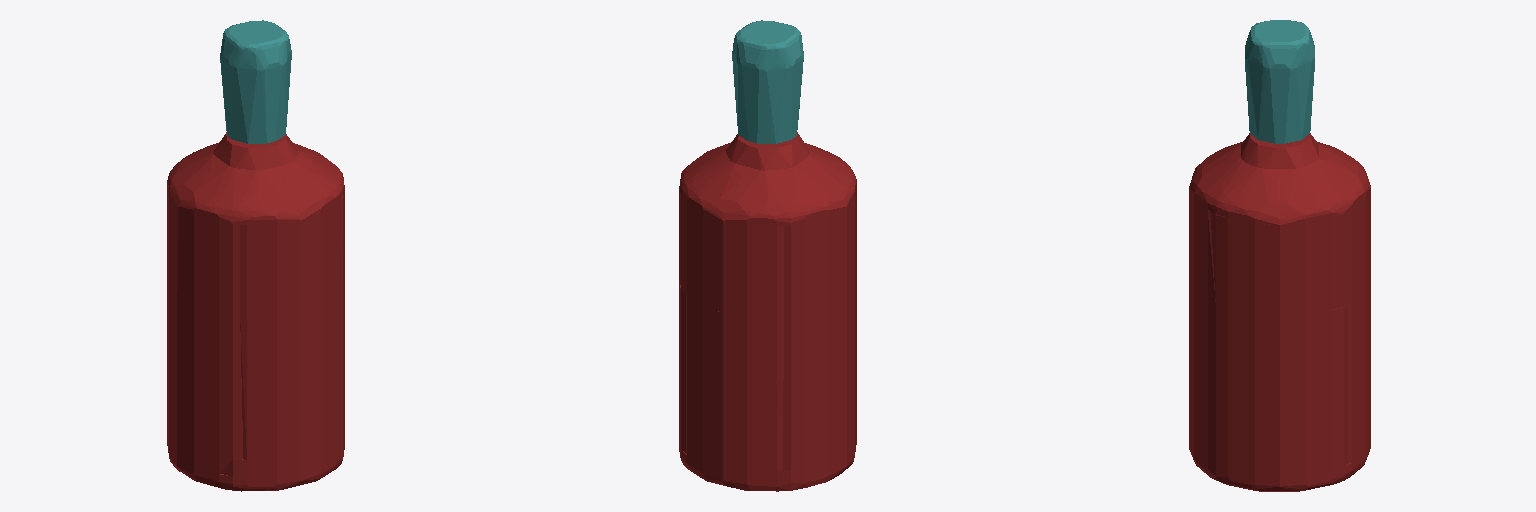
URDF robot description (root):
<robot name="root">
  <link name="bottle_body">
    <inertial>
      <origin xyz="0 0 0" rpy="0 0 0"/>
    </inertial>
    <mass value="1.00E-02"/>
    <visual>
      <origin xyz="0 0 0" rpy="0 0 0"/>
      <geometry>
        <mesh filename="core-bottle-c80173e23efaac35535deb3b0c692a2a-coacd_convex_piece_3.obj" scale="1.0000E-01 1.0000E-01 1.0000E-01"/>
      </geometry>
      <material name="">
        <color rgba="6.00E-01 2.00E-01 2.00E-01 1"/>
      </material>
    </visual>
    <collision>
      <origin xyz="0 0 0" rpy="0 0 0"/>
      <geometry>
        <mesh filename="core-bottle-c80173e23efaac35535deb3b0c692a2a-coacd_convex_piece_3.obj" scale="1.0000E-01 1.0000E-01 1.0000E-01"/>
      </geometry>
    </collision>
    <visual>
      <origin xyz="0 0 0" rpy="0 0 0"/>
      <geometry>
        <mesh filename="core-bottle-c80173e23efaac35535deb3b0c692a2a-coacd_convex_piece_8.obj" scale="1.0000E-01 1.0000E-01 1.0000E-01"/>
      </geometry>
      <material name="">
        <color rgba="6.00E-01 2.00E-01 2.00E-01 1"/>
      </material>
    </visual>
    <collision>
      <origin xyz="0 0 0" rpy="0 0 0"/>
      <geometry>
        <mesh filename="core-bottle-c80173e23efaac35535deb3b0c692a2a-coacd_convex_piece_8.obj" scale="1.0000E-01 1.0000E-01 1.0000E-01"/>
      </geometry>
    </collision>
    <visual>
      <origin xyz="0 0 0" rpy="0 0 0"/>
      <geometry>
        <mesh filename="core-bottle-c80173e23efaac35535deb3b0c692a2a-coacd_convex_piece_22.obj" scale="1.0000E-01 1.0000E-01 1.0000E-01"/>
      </geometry>
      <material name="">
        <color rgba="6.00E-01 2.00E-01 2.00E-01 1"/>
      </material>
    </visual>
    <collision>
      <origin xyz="0 0 0" rpy="0 0 0"/>
      <geometry>
        <mesh filename="core-bottle-c80173e23efaac35535deb3b0c692a2a-coacd_convex_piece_22.obj" scale="1.0000E-01 1.0000E-01 1.0000E-01"/>
      </geometry>
    </collision>
    <visual>
      <origin xyz="0 0 0" rpy="0 0 0"/>
      <geometry>
        <mesh filename="core-bottle-c80173e23efaac35535deb3b0c692a2a-coacd_convex_piece_18.obj" scale="1.0000E-01 1.0000E-01 1.0000E-01"/>
      </geometry>
      <material name="">
        <color rgba="6.00E-01 2.00E-01 2.00E-01 1"/>
      </material>
    </visual>
    <collision>
      <origin xyz="0 0 0" rpy="0 0 0"/>
      <geometry>
        <mesh filename="core-bottle-c80173e23efaac35535deb3b0c692a2a-coacd_convex_piece_18.obj" scale="1.0000E-01 1.0000E-01 1.0000E-01"/>
      </geometry>
    </collision>
    <visual>
      <origin xyz="0 0 0" rpy="0 0 0"/>
      <geometry>
        <mesh filename="core-bottle-c80173e23efaac35535deb3b0c692a2a-coacd_convex_piece_5.obj" scale="1.0000E-01 1.0000E-01 1.0000E-01"/>
      </geometry>
      <material name="">
        <color rgba="6.00E-01 2.00E-01 2.00E-01 1"/>
      </material>
    </visual>
    <collision>
      <origin xyz="0 0 0" rpy="0 0 0"/>
      <geometry>
        <mesh filename="core-bottle-c80173e23efaac35535deb3b0c692a2a-coacd_convex_piece_5.obj" scale="1.0000E-01 1.0000E-01 1.0000E-01"/>
      </geometry>
    </collision>
    <visual>
      <origin xyz="0 0 0" rpy="0 0 0"/>
      <geometry>
        <mesh filename="core-bottle-c80173e23efaac35535deb3b0c692a2a-coacd_convex_piece_14.obj" scale="1.0000E-01 1.0000E-01 1.0000E-01"/>
      </geometry>
      <material name="">
        <color rgba="6.00E-01 2.00E-01 2.00E-01 1"/>
      </material>
    </visual>
    <collision>
      <origin xyz="0 0 0" rpy="0 0 0"/>
      <geometry>
        <mesh filename="core-bottle-c80173e23efaac35535deb3b0c692a2a-coacd_convex_piece_14.obj" scale="1.0000E-01 1.0000E-01 1.0000E-01"/>
      </geometry>
    </collision>
    <visual>
      <origin xyz="0 0 0" rpy="0 0 0"/>
      <geometry>
        <mesh filename="core-bottle-c80173e23efaac35535deb3b0c692a2a-coacd_convex_piece_21.obj" scale="1.0000E-01 1.0000E-01 1.0000E-01"/>
      </geometry>
      <material name="">
        <color rgba="6.00E-01 2.00E-01 2.00E-01 1"/>
      </material>
    </visual>
    <collision>
      <origin xyz="0 0 0" rpy="0 0 0"/>
      <geometry>
        <mesh filename="core-bottle-c80173e23efaac35535deb3b0c692a2a-coacd_convex_piece_21.obj" scale="1.0000E-01 1.0000E-01 1.0000E-01"/>
      </geometry>
    </collision>
    <visual>
      <origin xyz="0 0 0" rpy="0 0 0"/>
      <geometry>
        <mesh filename="core-bottle-c80173e23efaac35535deb3b0c692a2a-coacd_convex_piece_10.obj" scale="1.0000E-01 1.0000E-01 1.0000E-01"/>
      </geometry>
      <material name="">
        <color rgba="6.00E-01 2.00E-01 2.00E-01 1"/>
      </material>
    </visual>
    <collision>
      <origin xyz="0 0 0" rpy="0 0 0"/>
      <geometry>
        <mesh filename="core-bottle-c80173e23efaac35535deb3b0c692a2a-coacd_convex_piece_10.obj" scale="1.0000E-01 1.0000E-01 1.0000E-01"/>
      </geometry>
    </collision>
    <visual>
      <origin xyz="0 0 0" rpy="0 0 0"/>
      <geometry>
        <mesh filename="core-bottle-c80173e23efaac35535deb3b0c692a2a-coacd_convex_piece_19.obj" scale="1.0000E-01 1.0000E-01 1.0000E-01"/>
      </geometry>
      <material name="">
        <color rgba="6.00E-01 2.00E-01 2.00E-01 1"/>
      </material>
    </visual>
    <collision>
      <origin xyz="0 0 0" rpy="0 0 0"/>
      <geometry>
        <mesh filename="core-bottle-c80173e23efaac35535deb3b0c692a2a-coacd_convex_piece_19.obj" scale="1.0000E-01 1.0000E-01 1.0000E-01"/>
      </geometry>
    </collision>
    <visual>
      <origin xyz="0 0 0" rpy="0 0 0"/>
      <geometry>
        <mesh filename="core-bottle-c80173e23efaac35535deb3b0c692a2a-coacd_convex_piece_7.obj" scale="1.0000E-01 1.0000E-01 1.0000E-01"/>
      </geometry>
      <material name="">
        <color rgba="6.00E-01 2.00E-01 2.00E-01 1"/>
      </material>
    </visual>
    <collision>
      <origin xyz="0 0 0" rpy="0 0 0"/>
      <geometry>
        <mesh filename="core-bottle-c80173e23efaac35535deb3b0c692a2a-coacd_convex_piece_7.obj" scale="1.0000E-01 1.0000E-01 1.0000E-01"/>
      </geometry>
    </collision>
    <visual>
      <origin xyz="0 0 0" rpy="0 0 0"/>
      <geometry>
        <mesh filename="core-bottle-c80173e23efaac35535deb3b0c692a2a-coacd_convex_piece_13.obj" scale="1.0000E-01 1.0000E-01 1.0000E-01"/>
      </geometry>
      <material name="">
        <color rgba="6.00E-01 2.00E-01 2.00E-01 1"/>
      </material>
    </visual>
    <collision>
      <origin xyz="0 0 0" rpy="0 0 0"/>
      <geometry>
        <mesh filename="core-bottle-c80173e23efaac35535deb3b0c692a2a-coacd_convex_piece_13.obj" scale="1.0000E-01 1.0000E-01 1.0000E-01"/>
      </geometry>
    </collision>
    <visual>
      <origin xyz="0 0 0" rpy="0 0 0"/>
      <geometry>
        <mesh filename="core-bottle-c80173e23efaac35535deb3b0c692a2a-coacd_convex_piece_12.obj" scale="1.0000E-01 1.0000E-01 1.0000E-01"/>
      </geometry>
      <material name="">
        <color rgba="6.00E-01 2.00E-01 2.00E-01 1"/>
      </material>
    </visual>
    <collision>
      <origin xyz="0 0 0" rpy="0 0 0"/>
      <geometry>
        <mesh filename="core-bottle-c80173e23efaac35535deb3b0c692a2a-coacd_convex_piece_12.obj" scale="1.0000E-01 1.0000E-01 1.0000E-01"/>
      </geometry>
    </collision>
    <visual>
      <origin xyz="0 0 0" rpy="0 0 0"/>
      <geometry>
        <mesh filename="core-bottle-c80173e23efaac35535deb3b0c692a2a-coacd_convex_piece_4.obj" scale="1.0000E-01 1.0000E-01 1.0000E-01"/>
      </geometry>
      <material name="">
        <color rgba="6.00E-01 2.00E-01 2.00E-01 1"/>
      </material>
    </visual>
    <collision>
      <origin xyz="0 0 0" rpy="0 0 0"/>
      <geometry>
        <mesh filename="core-bottle-c80173e23efaac35535deb3b0c692a2a-coacd_convex_piece_4.obj" scale="1.0000E-01 1.0000E-01 1.0000E-01"/>
      </geometry>
    </collision>
    <visual>
      <origin xyz="0 0 0" rpy="0 0 0"/>
      <geometry>
        <mesh filename="core-bottle-c80173e23efaac35535deb3b0c692a2a-coacd_convex_piece_9.obj" scale="1.0000E-01 1.0000E-01 1.0000E-01"/>
      </geometry>
      <material name="">
        <color rgba="6.00E-01 2.00E-01 2.00E-01 1"/>
      </material>
    </visual>
    <collision>
      <origin xyz="0 0 0" rpy="0 0 0"/>
      <geometry>
        <mesh filename="core-bottle-c80173e23efaac35535deb3b0c692a2a-coacd_convex_piece_9.obj" scale="1.0000E-01 1.0000E-01 1.0000E-01"/>
      </geometry>
    </collision>
    <visual>
      <origin xyz="0 0 0" rpy="0 0 0"/>
      <geometry>
        <mesh filename="core-bottle-c80173e23efaac35535deb3b0c692a2a-coacd_convex_piece_16.obj" scale="1.0000E-01 1.0000E-01 1.0000E-01"/>
      </geometry>
      <material name="">
        <color rgba="6.00E-01 2.00E-01 2.00E-01 1"/>
      </material>
    </visual>
    <collision>
      <origin xyz="0 0 0" rpy="0 0 0"/>
      <geometry>
        <mesh filename="core-bottle-c80173e23efaac35535deb3b0c692a2a-coacd_convex_piece_16.obj" scale="1.0000E-01 1.0000E-01 1.0000E-01"/>
      </geometry>
    </collision>
    <visual>
      <origin xyz="0 0 0" rpy="0 0 0"/>
      <geometry>
        <mesh filename="core-bottle-c80173e23efaac35535deb3b0c692a2a-coacd_convex_piece_20.obj" scale="1.0000E-01 1.0000E-01 1.0000E-01"/>
      </geometry>
      <material name="">
        <color rgba="6.00E-01 2.00E-01 2.00E-01 1"/>
      </material>
    </visual>
    <collision>
      <origin xyz="0 0 0" rpy="0 0 0"/>
      <geometry>
        <mesh filename="core-bottle-c80173e23efaac35535deb3b0c692a2a-coacd_convex_piece_20.obj" scale="1.0000E-01 1.0000E-01 1.0000E-01"/>
      </geometry>
    </collision>
    <visual>
      <origin xyz="0 0 0" rpy="0 0 0"/>
      <geometry>
        <mesh filename="core-bottle-c80173e23efaac35535deb3b0c692a2a-coacd_convex_piece_2.obj" scale="1.0000E-01 1.0000E-01 1.0000E-01"/>
      </geometry>
      <material name="">
        <color rgba="6.00E-01 2.00E-01 2.00E-01 1"/>
      </material>
    </visual>
    <collision>
      <origin xyz="0 0 0" rpy="0 0 0"/>
      <geometry>
        <mesh filename="core-bottle-c80173e23efaac35535deb3b0c692a2a-coacd_convex_piece_2.obj" scale="1.0000E-01 1.0000E-01 1.0000E-01"/>
      </geometry>
    </collision>
    <visual>
      <origin xyz="0 0 0" rpy="0 0 0"/>
      <geometry>
        <mesh filename="core-bottle-c80173e23efaac35535deb3b0c692a2a-coacd_convex_piece_15.obj" scale="1.0000E-01 1.0000E-01 1.0000E-01"/>
      </geometry>
      <material name="">
        <color rgba="6.00E-01 2.00E-01 2.00E-01 1"/>
      </material>
    </visual>
    <collision>
      <origin xyz="0 0 0" rpy="0 0 0"/>
      <geometry>
        <mesh filename="core-bottle-c80173e23efaac35535deb3b0c692a2a-coacd_convex_piece_15.obj" scale="1.0000E-01 1.0000E-01 1.0000E-01"/>
      </geometry>
    </collision>
    <visual>
      <origin xyz="0 0 0" rpy="0 0 0"/>
      <geometry>
        <mesh filename="core-bottle-c80173e23efaac35535deb3b0c692a2a-coacd_convex_piece_17.obj" scale="1.0000E-01 1.0000E-01 1.0000E-01"/>
      </geometry>
      <material name="">
        <color rgba="6.00E-01 2.00E-01 2.00E-01 1"/>
      </material>
    </visual>
    <collision>
      <origin xyz="0 0 0" rpy="0 0 0"/>
      <geometry>
        <mesh filename="core-bottle-c80173e23efaac35535deb3b0c692a2a-coacd_convex_piece_17.obj" scale="1.0000E-01 1.0000E-01 1.0000E-01"/>
      </geometry>
    </collision>
    <visual>
      <origin xyz="0 0 0" rpy="0 0 0"/>
      <geometry>
        <mesh filename="core-bottle-c80173e23efaac35535deb3b0c692a2a-coacd_convex_piece_1.obj" scale="1.0000E-01 1.0000E-01 1.0000E-01"/>
      </geometry>
      <material name="">
        <color rgba="6.00E-01 2.00E-01 2.00E-01 1"/>
      </material>
    </visual>
    <collision>
      <origin xyz="0 0 0" rpy="0 0 0"/>
      <geometry>
        <mesh filename="core-bottle-c80173e23efaac35535deb3b0c692a2a-coacd_convex_piece_1.obj" scale="1.0000E-01 1.0000E-01 1.0000E-01"/>
      </geometry>
    </collision>
    <visual>
      <origin xyz="0 0 0" rpy="0 0 0"/>
      <geometry>
        <mesh filename="core-bottle-c80173e23efaac35535deb3b0c692a2a-coacd_convex_piece_11.obj" scale="1.0000E-01 1.0000E-01 1.0000E-01"/>
      </geometry>
      <material name="">
        <color rgba="6.00E-01 2.00E-01 2.00E-01 1"/>
      </material>
    </visual>
    <collision>
      <origin xyz="0 0 0" rpy="0 0 0"/>
      <geometry>
        <mesh filename="core-bottle-c80173e23efaac35535deb3b0c692a2a-coacd_convex_piece_11.obj" scale="1.0000E-01 1.0000E-01 1.0000E-01"/>
      </geometry>
    </collision>
    <visual>
      <origin xyz="0 0 0" rpy="0 0 0"/>
      <geometry>
        <mesh filename="core-bottle-c80173e23efaac35535deb3b0c692a2a-coacd_convex_piece_6.obj" scale="1.0000E-01 1.0000E-01 1.0000E-01"/>
      </geometry>
      <material name="">
        <color rgba="6.00E-01 2.00E-01 2.00E-01 1"/>
      </material>
    </visual>
    <collision>
      <origin xyz="0 0 0" rpy="0 0 0"/>
      <geometry>
        <mesh filename="core-bottle-c80173e23efaac35535deb3b0c692a2a-coacd_convex_piece_6.obj" scale="1.0000E-01 1.0000E-01 1.0000E-01"/>
      </geometry>
    </collision>
  </link>
  <link name="bottle_cap">
    <origin xyz="0 0 0.002" rpy="0 0 0"/>
    <mass value="1.00E-02"/>
    <visual>
      <origin xyz="0 0 0.002" rpy="0 0 0"/>
      <geometry>
        <mesh filename="core-bottle-c80173e23efaac35535deb3b0c692a2a-coacd_convex_piece_0.obj" scale="1.0000E-01 1.0000E-01 1.0000E-01"/>
      </geometry>
      <material name="">
        <color rgba="3.00E-01 6.00E-01 6.00E-01 1"/>
      </material>
    </visual>
    <collision>
      <origin xyz="0 0 0.002" rpy="0 0 0"/>
      <geometry>
        <mesh filename="core-bottle-c80173e23efaac35535deb3b0c692a2a-coacd_convex_piece_0.obj" scale="1.0000E-01 1.0000E-01 1.0000E-01"/>
      </geometry>
    </collision>
  </link>
  <joint name="bottle_cap_joint" type="revolute">
    <origin xyz="0 0 0" rpy="0 0 0"/>
    <parent link="bottle_body"/>
    <child link="bottle_cap"/>
    <axis xyz="0 0 1"/>
    <limit lower="0.00" upper="6.28"/>
    <dynamics damping="0.05"/>
  </joint>
</robot>

--- Facts derived from the render (not from the file) ---
Views: 3 orthographic renders of the robot side by side, from view 1: azimuth 30°, elevation 25°; view 2: azimuth 150°, elevation 25°; view 3: azimuth 270°, elevation 25°.
Model root with 2 links and 1 joints (1 revolute), rooted at bottle_body, posed every joint at zero.
Links seen in each view (by area): view 1: bottle_body, bottle_cap; view 2: bottle_body, bottle_cap; view 3: bottle_body, bottle_cap.
Link boxes in pixels (x1,y1,x2,y2): bottle_body: (167,132,344,491); bottle_cap: (220,20,291,143); bottle_body: (679,132,856,491); bottle_cap: (732,20,803,143); bottle_body: (1189,133,1370,491); bottle_cap: (1245,20,1314,143).
Bounding box of the posed robot: 0.0726 × 0.0726 × 0.1874 m (x, y, z).
Meshes: 23 distinct files referenced, 23 mesh visuals loaded (23 OBJ).